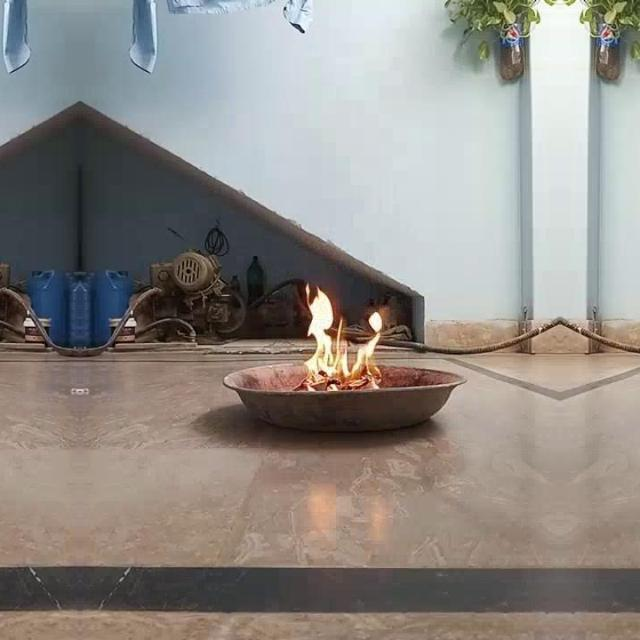smoke: (303, 280, 383, 390)
